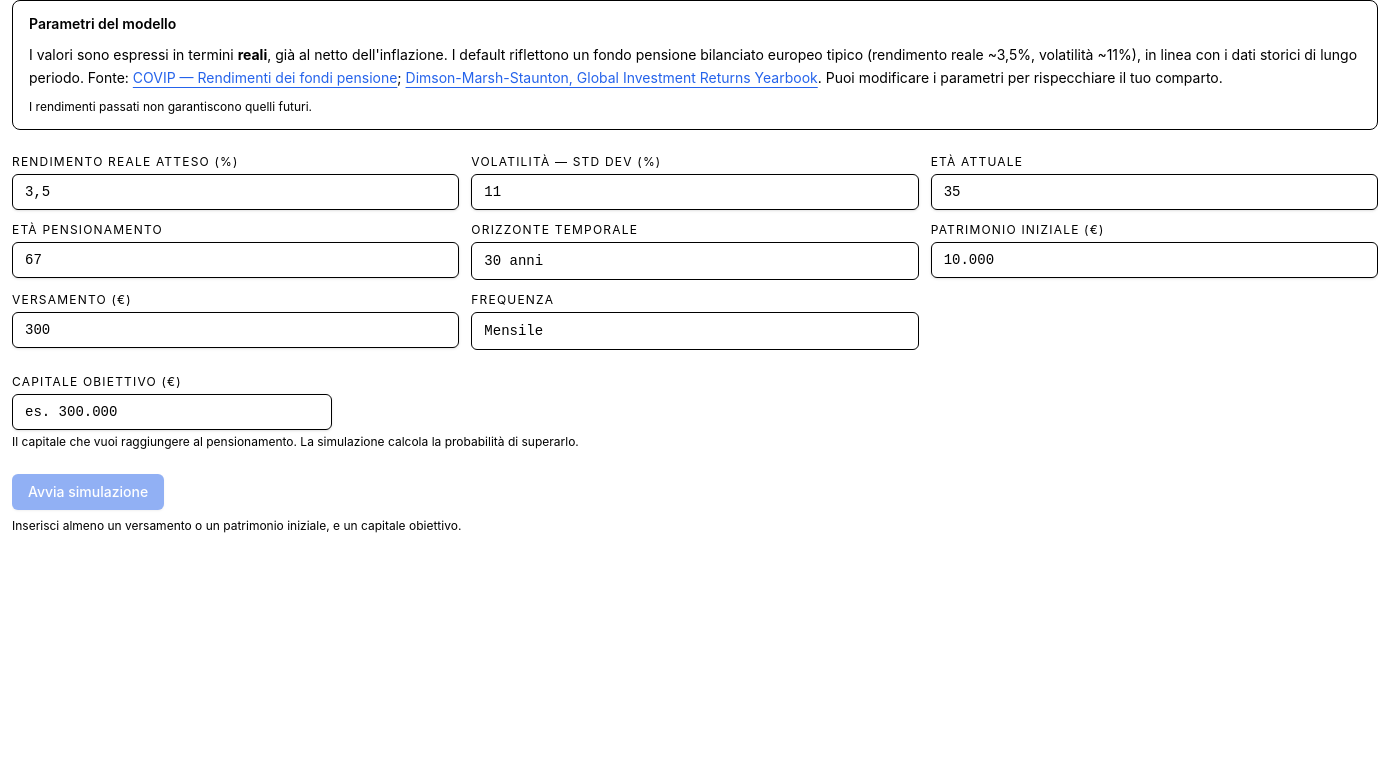
Test: MonteCarlo component › simulation results › shows simulation parameters card
Type "200.000" into the field labelled "Capitale obiettivo (€)" at [172, 412], box 12,394 -> 332,430
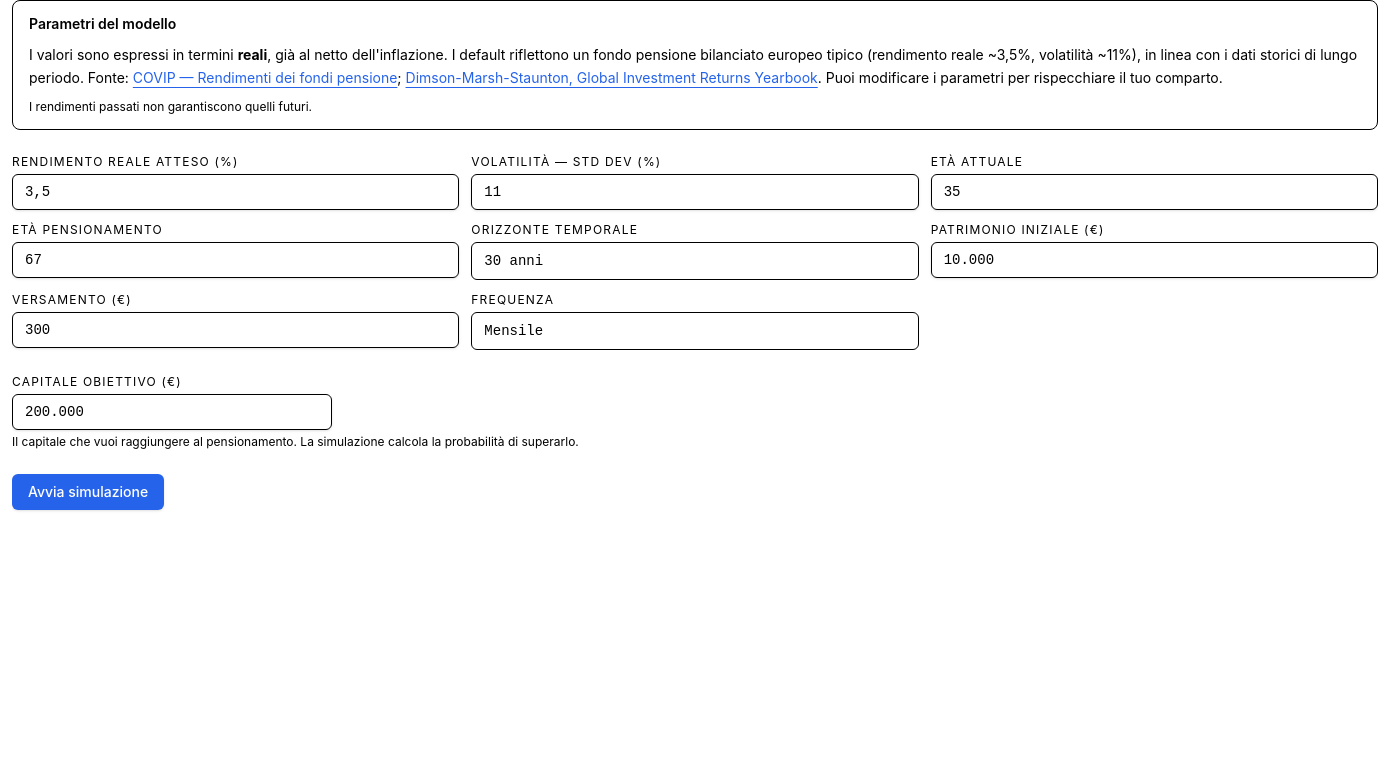
Click the button "Avvia simulazione" at [88, 492], box 12,474 -> 164,510
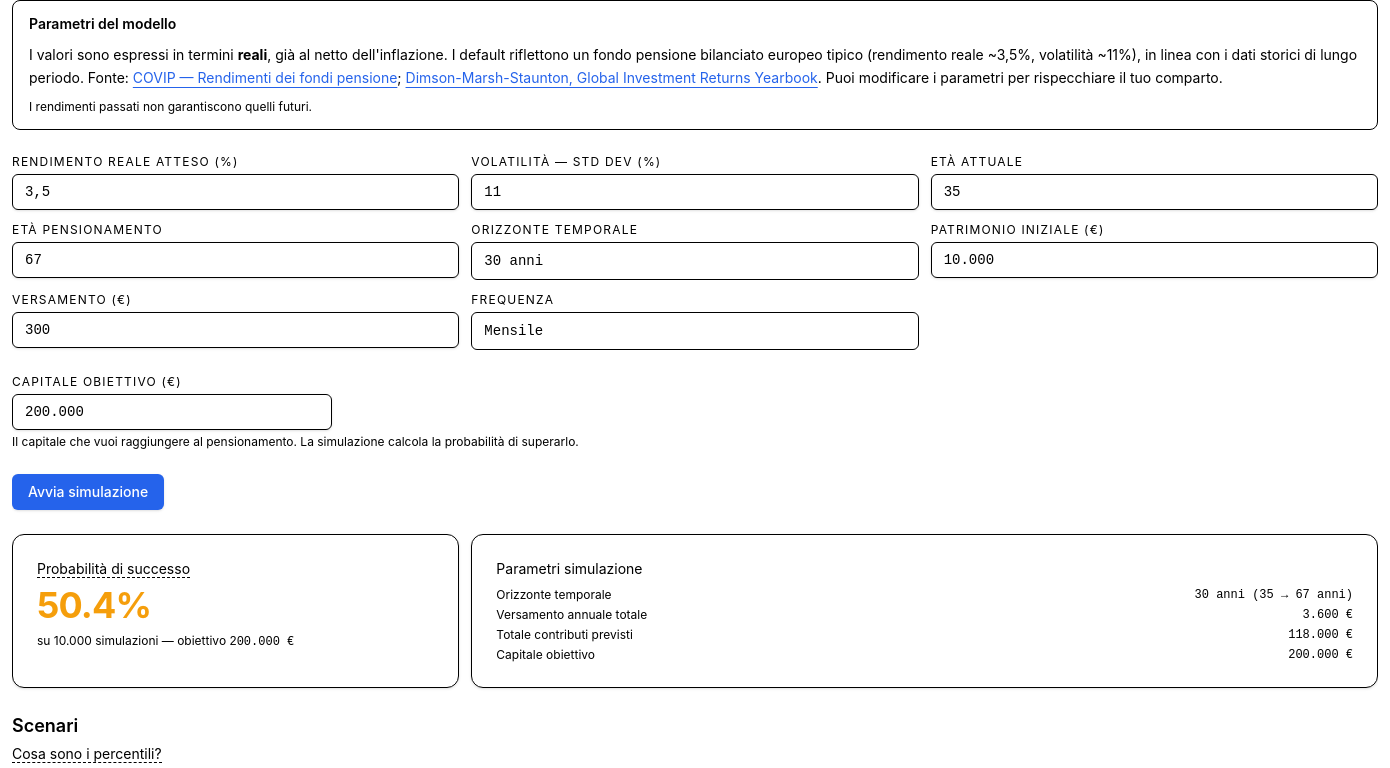
Check: the text "Parametri simulazione" is shown, box 496,560 -> 642,577
Check: the text "Versamento annuale totale" is shown, box 496,607 -> 647,623
Check: the text "Totale contributi previsti" is shown, box 496,627 -> 633,643
